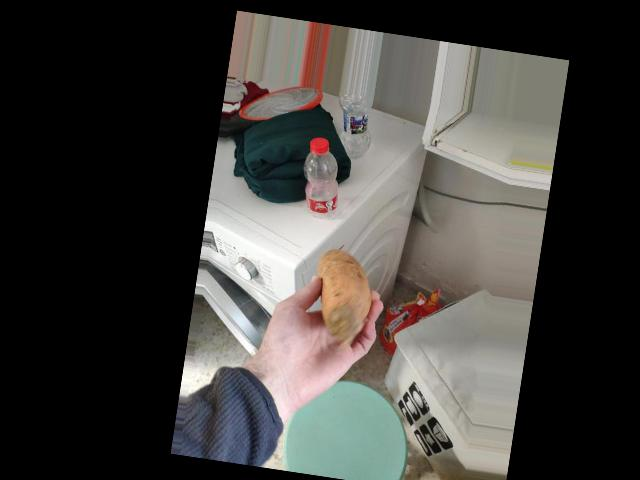sweet_potato: (315, 245, 374, 354)
